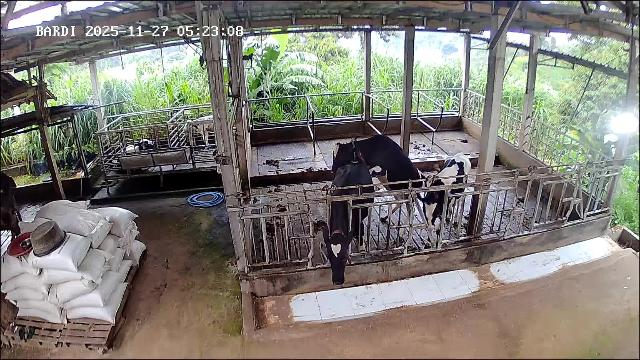mounting: (329, 134, 425, 222)
